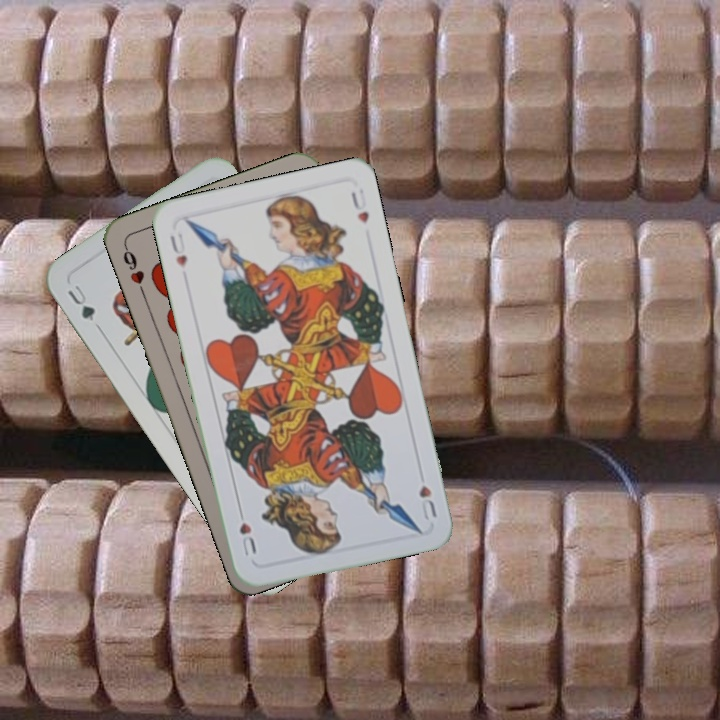GU: (63, 280, 98, 324)
H9: (118, 241, 148, 298)
HU: (415, 481, 440, 523), (166, 228, 190, 270)
